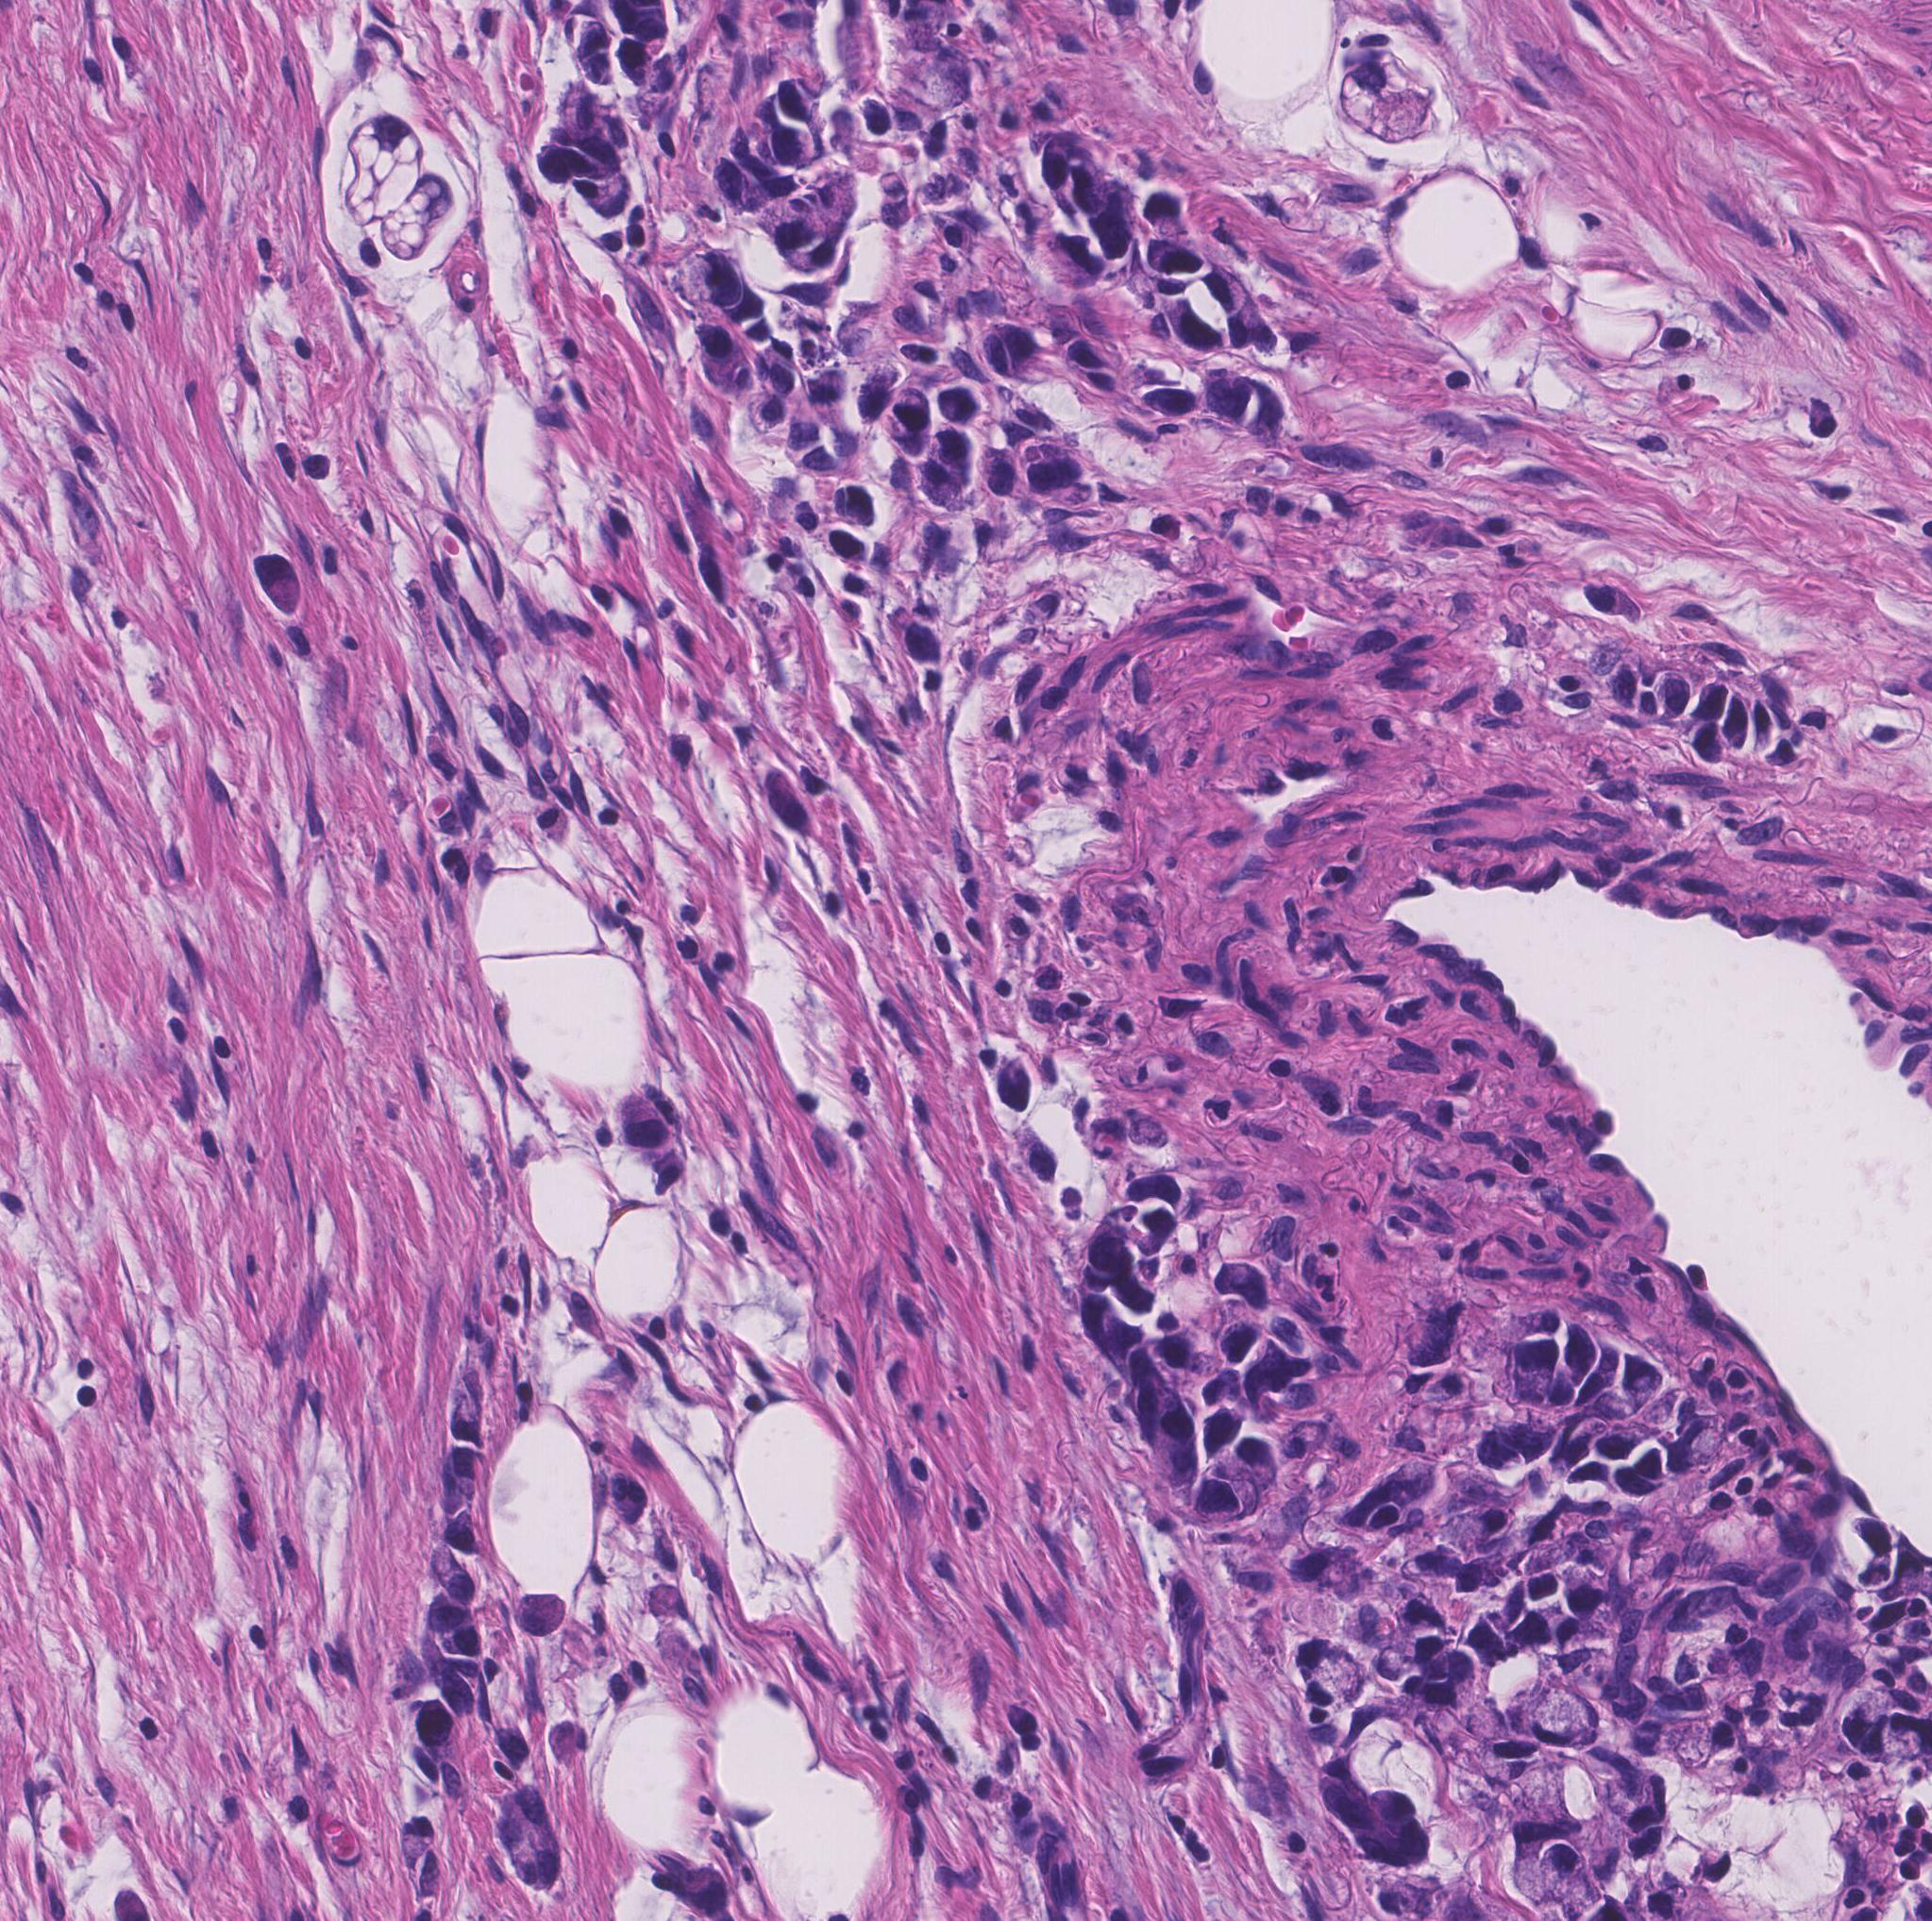ring_cell_cancer: (1344, 58, 1438, 141), (352, 113, 421, 218), (1510, 1768, 1599, 1838), (387, 176, 450, 264), (1399, 1298, 1462, 1370), (1086, 179, 1138, 264), (693, 325, 757, 394), (252, 554, 311, 623), (1531, 1692, 1603, 1749), (1207, 1258, 1277, 1312), (1043, 230, 1107, 290), (677, 252, 744, 308), (1526, 1847, 1592, 1902), (767, 769, 818, 839), (1299, 1647, 1357, 1708), (618, 1091, 676, 1150), (670, 1863, 732, 1919), (1325, 1777, 1387, 1833), (1216, 1434, 1276, 1490), (449, 1370, 491, 1448), (1423, 1648, 1482, 1705), (1163, 301, 1223, 355), (428, 1654, 479, 1717), (1198, 1474, 1260, 1525), (1665, 1720, 1735, 1764), (1508, 1339, 1555, 1402), (1580, 581, 1647, 623), (1501, 1414, 1557, 1464), (1121, 1172, 1195, 1209), (523, 1826, 567, 1888), (1123, 1340, 1167, 1400), (1381, 1460, 1441, 1504), (509, 1592, 568, 1636), (764, 204, 822, 248), (1735, 1622, 1779, 1680), (806, 176, 859, 223), (714, 160, 762, 213), (1204, 264, 1249, 318), (436, 1553, 482, 1608), (1042, 127, 1077, 197), (1436, 1509, 1510, 1543), (1086, 1223, 1135, 1272), (982, 449, 1028, 501), (396, 1812, 438, 1868), (1624, 1770, 1672, 1819), (1395, 1406, 1441, 1457), (560, 84, 604, 137), (1211, 368, 1249, 427), (1290, 1545, 1355, 1580), (491, 1798, 528, 1859), (1399, 1545, 1460, 1581), (853, 364, 892, 422), (611, 1471, 649, 1529), (1394, 1585, 1445, 1629), (834, 484, 882, 530), (544, 1719, 591, 1764), (413, 1703, 457, 1752), (442, 1448, 482, 1501), (1591, 1425, 1654, 1458), (922, 457, 961, 512), (1378, 1824, 1432, 1863), (1144, 190, 1188, 236), (1321, 1420, 1365, 1465), (1682, 1414, 1723, 1464), (1564, 1567, 1603, 1618), (1452, 1559, 1513, 1590), (1462, 1699, 1508, 1742), (1147, 241, 1202, 276), (584, 179, 633, 218), (1242, 306, 1281, 355), (776, 79, 820, 121), (1010, 394, 1056, 435), (445, 1509, 486, 1555), (1073, 160, 1105, 218), (1212, 1323, 1260, 1362), (977, 327, 1012, 378), (1161, 1439, 1197, 1490), (489, 1729, 533, 1770), (1638, 1552, 1679, 1596), (801, 371, 848, 408), (1372, 1786, 1420, 1822), (1422, 1376, 1476, 1407), (1158, 1397, 1191, 1448), (767, 347, 799, 399), (1723, 688, 1749, 751), (616, 42, 653, 86), (514, 1784, 551, 1828), (1357, 1822, 1394, 1866), (1508, 1305, 1559, 1337), (1086, 1293, 1114, 1349), (1568, 1323, 1594, 1383), (1365, 1647, 1408, 1684), (940, 391, 984, 426), (1028, 449, 1059, 496), (1283, 1423, 1323, 1460), (783, 417, 827, 450), (1207, 1411, 1242, 1451), (1628, 1356, 1663, 1397), (651, 1585, 686, 1625), (1694, 681, 1724, 728), (431, 1597, 473, 1631), (799, 449, 845, 478), (633, 5, 669, 44), (746, 396, 787, 429), (575, 23, 612, 58), (1691, 725, 1723, 765), (442, 1625, 484, 1655), (1701, 1845, 1733, 1882), (975, 1768, 1008, 1801), (419, 1851, 440, 1902), (1665, 676, 1686, 725), (876, 171, 908, 201), (477, 4, 500, 42), (1754, 700, 1770, 755), (882, 204, 910, 232)
